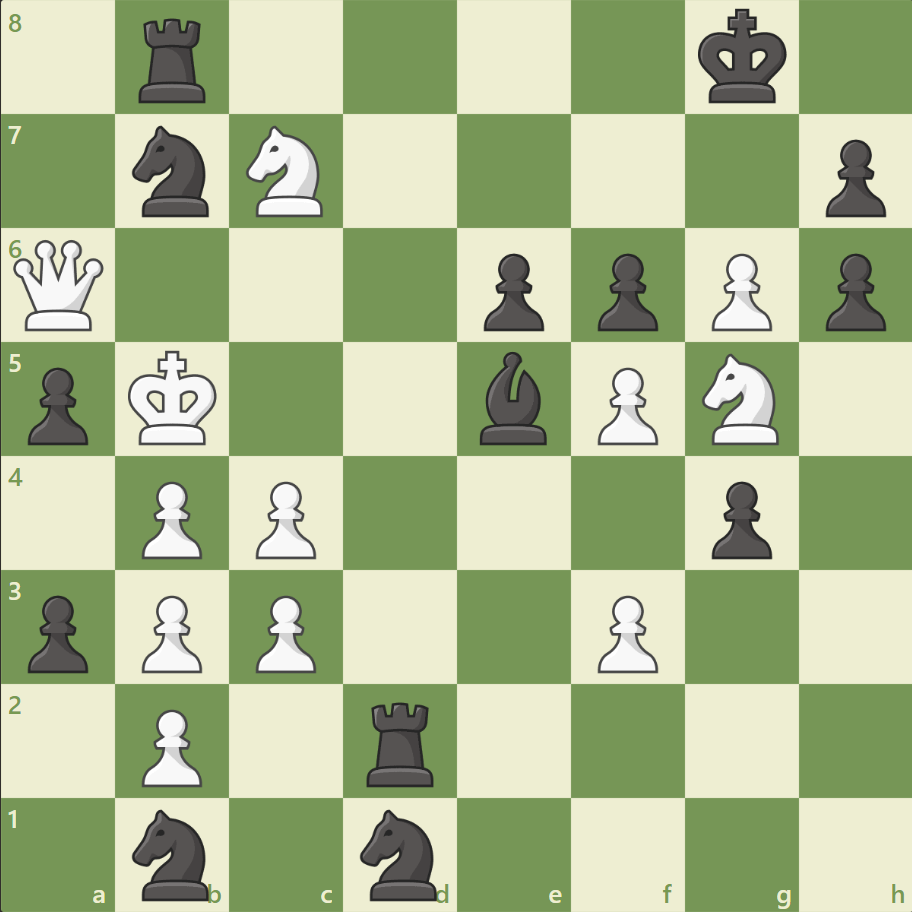K: (124, 344, 224, 452)
N: (238, 121, 335, 223), (692, 348, 789, 450)
P: (701, 246, 776, 337), (133, 473, 208, 564), (247, 473, 322, 564), (133, 586, 208, 677), (247, 586, 322, 677), (133, 700, 208, 791), (588, 359, 662, 450), (588, 586, 662, 677)
Q: (10, 236, 109, 335)
b: (471, 347, 555, 449)
k: (692, 4, 792, 112)
n: (124, 121, 222, 223), (124, 802, 222, 904), (351, 802, 449, 904)
p: (474, 246, 549, 337), (20, 359, 95, 450), (701, 473, 776, 564), (20, 586, 95, 677), (815, 132, 889, 223), (588, 246, 662, 337), (815, 246, 889, 337)
r: (133, 12, 215, 109), (360, 693, 442, 790)
